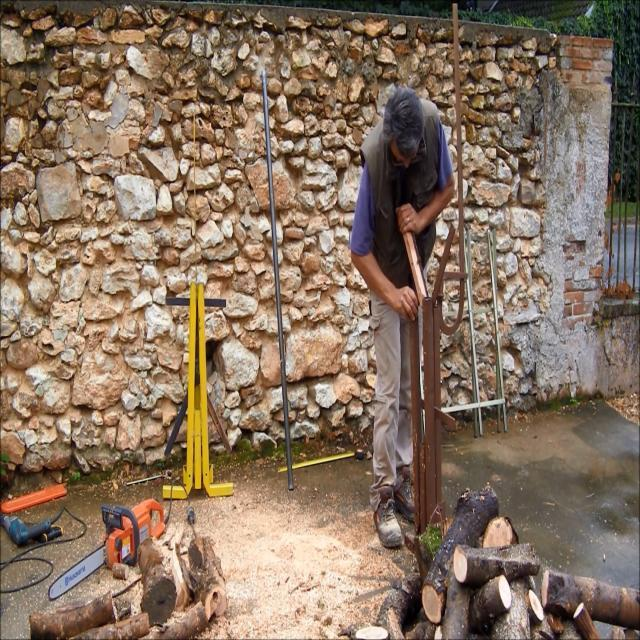Chainsaw: (44, 456, 174, 620)
